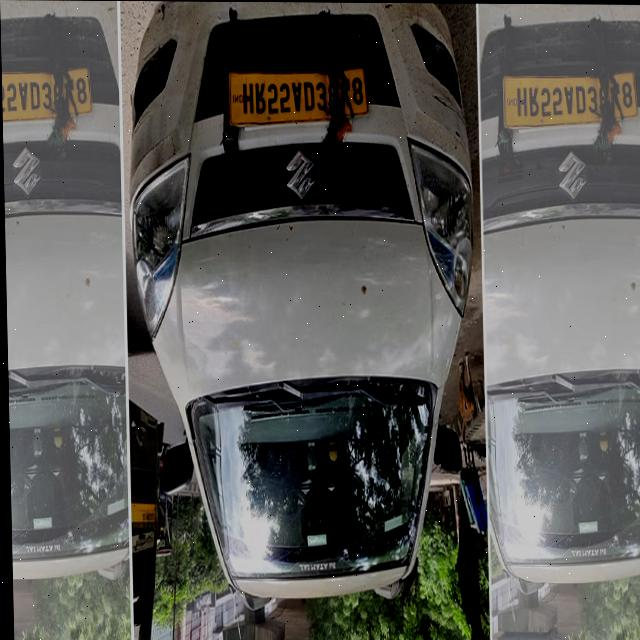plate: (222, 57, 373, 140), (497, 61, 640, 137), (1, 59, 98, 139)
